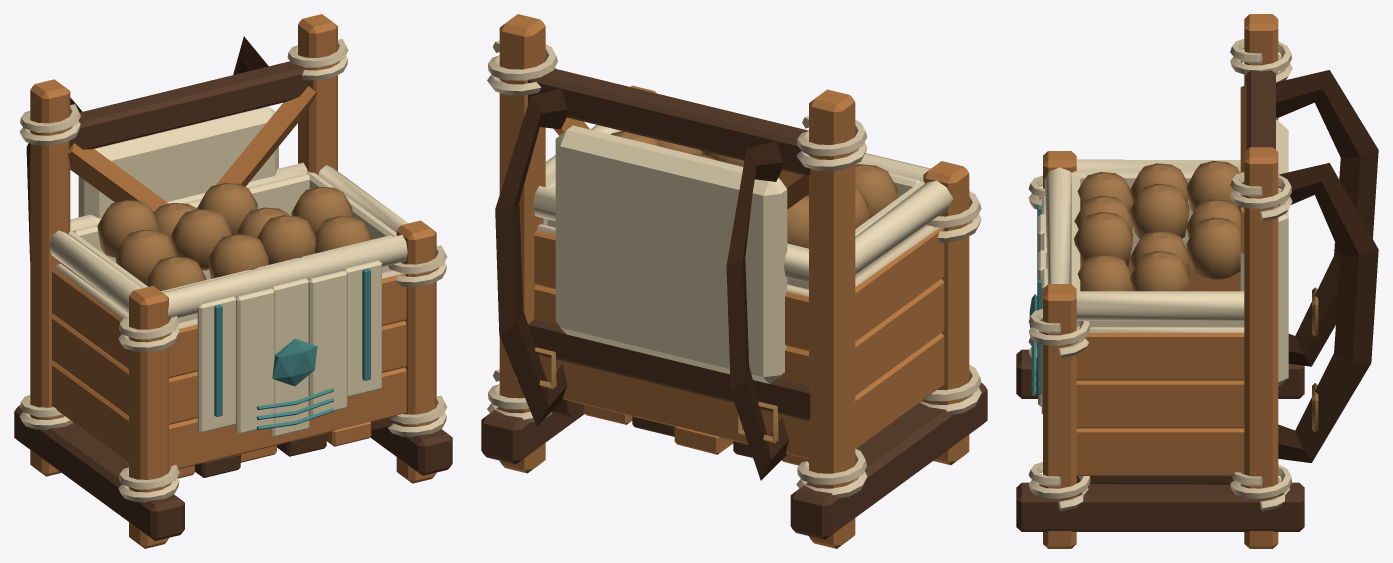
File: prop_trade_pack_potato_a.glb
3 renders of one model, left to right at view 1: azimuth 30°, elevation 25°; view 2: azimuth 150°, elevation 25°; view 3: azimuth 270°, elevation 25°, orthographic. The views are drawn at different scales.
Parts seen in each view (by area): view 1: prop_trade_pack_potato_a_LOD0; view 2: prop_trade_pack_potato_a_LOD0; view 3: prop_trade_pack_potato_a_LOD0.
Part boxes in pixels (x1,y1,x2,y2): prop_trade_pack_potato_a_LOD0: [14, 14, 452, 548]; prop_trade_pack_potato_a_LOD0: [481, 14, 987, 548]; prop_trade_pack_potato_a_LOD0: [1016, 14, 1378, 548].
Size of what is drawn, in the model's own units: 0.8384 by 0.96 by 0.8041.
